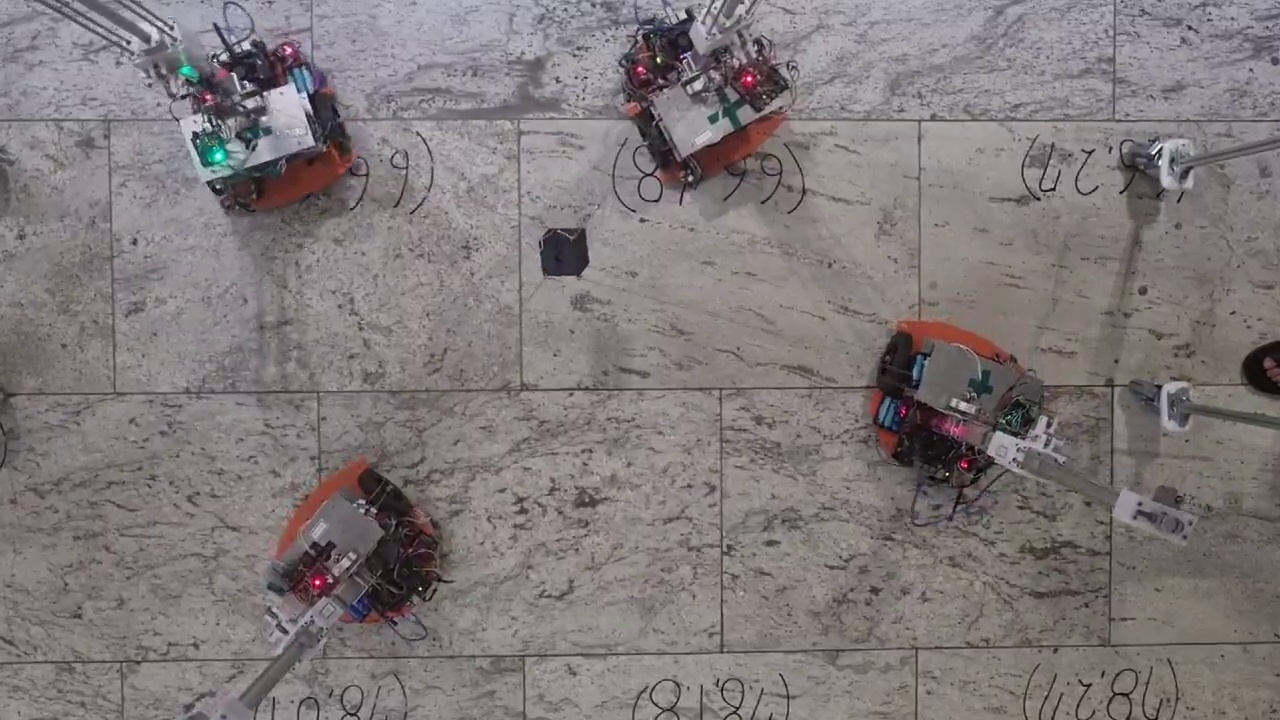e0: (539, 227, 591, 277)
r1: (874, 332, 1049, 443)
r2: (633, 55, 778, 171)
r3: (195, 93, 351, 198)
r4: (284, 469, 414, 610)
y_+_axis_vector: (721, 385, 1113, 389)
y_-_axis_vector: (318, 389, 722, 392)
